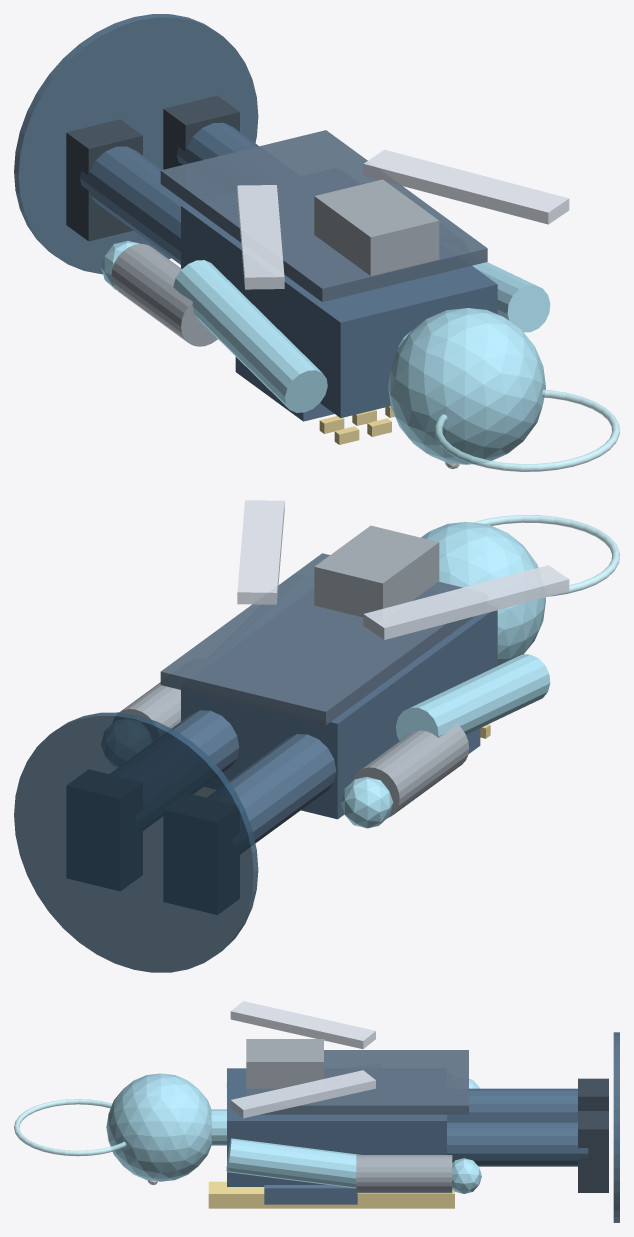
Rendered from SW_NPC_050_jun_galesong.glb.
The picture shows the model from 3 angles, top to bottom: view 1: azimuth 30°, elevation 25°; view 2: azimuth 150°, elevation 25°; view 3: azimuth 270°, elevation 25°; orthographic projection. The views are drawn at different scales.
Visible parts, largest first — view 1: round_base_plate, torso_uniform, head, storm_cloak, left_upper_arm, wingpack_core, left_leg, right_wing_rig, left_forearm_gauntlet, left_boot, left_wing_rig, right_boot (+4 smaller); view 2: round_base_plate, storm_cloak, torso_uniform, wingpack_core, head, left_upper_arm, left_leg, left_wing_rig, left_forearm_gauntlet, right_wing_rig, right_leg, left_hand (+2 smaller); view 3: torso_uniform, head, storm_cloak, right_leg, right_upper_arm, left_leg, right_forearm_gauntlet, wingpack_core, rank_sash, right_wing_rig, left_wing_rig, right_boot (+6 smaller).
Part boxes in pixels (left/top/right/bottom): round_base_plate: left=14, top=14, right=258, bottom=274; torso_uniform: left=181, top=204, right=497, bottom=417; head: left=388, top=308, right=545, bottom=464; storm_cloak: left=160, top=130, right=487, bottom=301; left_upper_arm: left=173, top=260, right=327, bottom=412; wingpack_core: left=314, top=179, right=439, bottom=275; left_leg: left=80, top=146, right=187, bottom=264; right_wing_rig: left=363, top=149, right=569, bottom=224; left_forearm_gauntlet: left=111, top=243, right=217, bottom=346; left_boot: left=66, top=119, right=142, bottom=241; left_wing_rig: left=237, top=185, right=284, bottom=289; right_boot: left=163, top=95, right=239, bottom=169; round_base_plate: left=14, top=712, right=258, bottom=972; storm_cloak: left=160, top=553, right=474, bottom=725; torso_uniform: left=181, top=610, right=497, bottom=819; wingpack_core: left=314, top=525, right=439, bottom=617; head: left=421, top=522, right=545, bottom=665; left_upper_arm: left=396, top=654, right=550, bottom=740; left_leg: left=229, top=734, right=336, bottom=843; left_wing_rig: left=363, top=565, right=569, bottom=639; left_forearm_gauntlet: left=352, top=724, right=469, bottom=818; right_wing_rig: left=237, top=500, right=284, bottom=604; right_leg: left=172, top=710, right=239, bottom=772; left_hand: left=340, top=777, right=393, bottom=828; torso_uniform: left=227, top=1068, right=446, bottom=1186; head: left=106, top=1073, right=211, bottom=1181; storm_cloak: left=246, top=1050, right=468, bottom=1114; right_leg: left=447, top=1121, right=588, bottom=1166; right_upper_arm: left=226, top=1138, right=360, bottom=1188; left_leg: left=447, top=1088, right=577, bottom=1121; right_forearm_gauntlet: left=356, top=1155, right=452, bottom=1193; wingpack_core: left=246, top=1039, right=323, bottom=1088; rank_sash: left=208, top=1181, right=454, bottom=1208; right_wing_rig: left=230, top=1070, right=375, bottom=1118; left_wing_rig: left=230, top=1001, right=375, bottom=1048; right_boot: left=578, top=1111, right=608, bottom=1192.
Bounding box in the file's own units: 1.05 × 0.7728 × 2.46.
